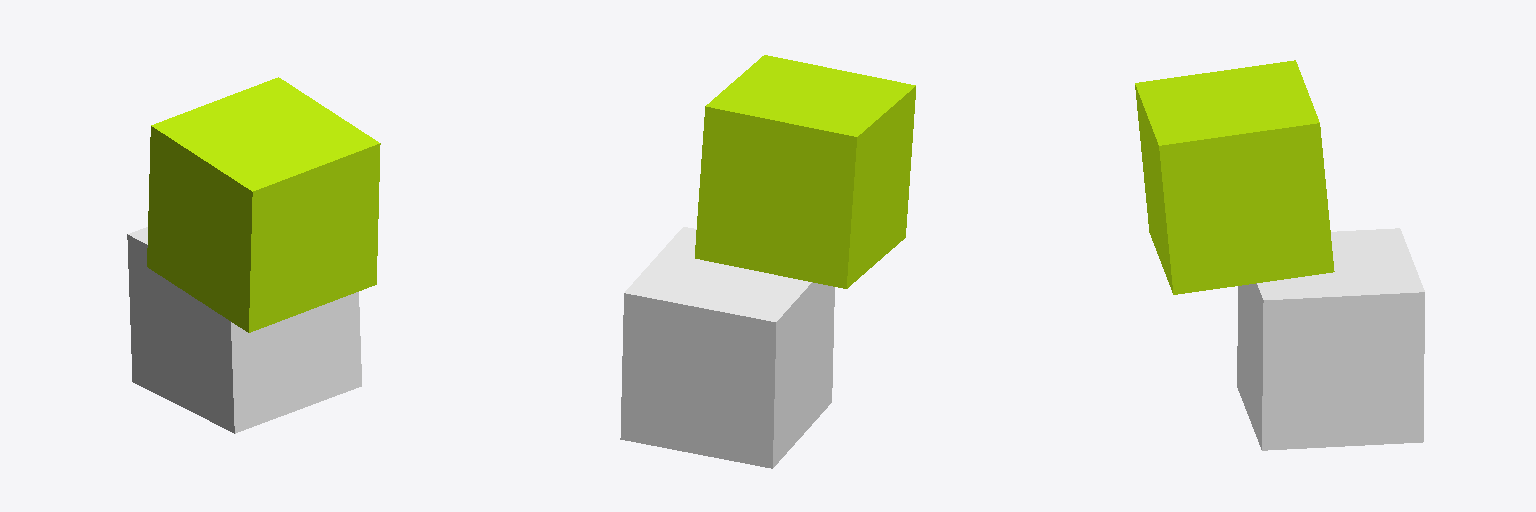
File: Leader.obj
3 renders of one model, left to right at view 1: azimuth 30°, elevation 25°; view 2: azimuth 150°, elevation 25°; view 3: azimuth 270°, elevation 25°, orthographic.
Visible parts, largest first — view 1: Child, Leader; view 2: Child, Leader; view 3: Child, Leader.
Part boxes in pixels (bbox=[...]): Child: bbox=[147, 77, 380, 332]; Leader: bbox=[127, 227, 361, 433]; Child: bbox=[695, 55, 915, 288]; Leader: bbox=[620, 227, 834, 468]; Child: bbox=[1135, 60, 1334, 294]; Leader: bbox=[1237, 228, 1424, 450].
Size of the model in its own units: 0.2746 by 0.4151 by 0.3551.